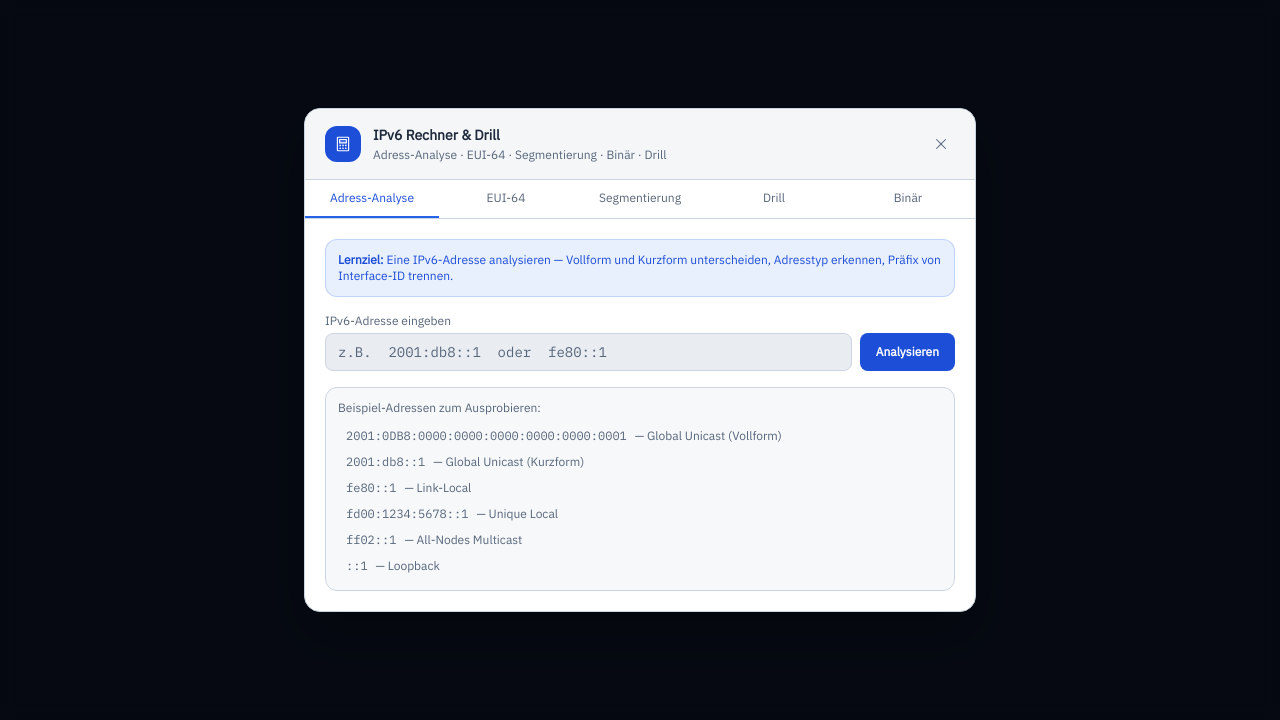
Scenario: Weitere critical-Fälle aus dem Reiter-Sweep › IPv6 „Segmentierung“: Präfix- und CIDR-Feld haben Namen
Press the mouse on the tab "Segmentierung" at (640, 199), box [573, 180, 707, 218]
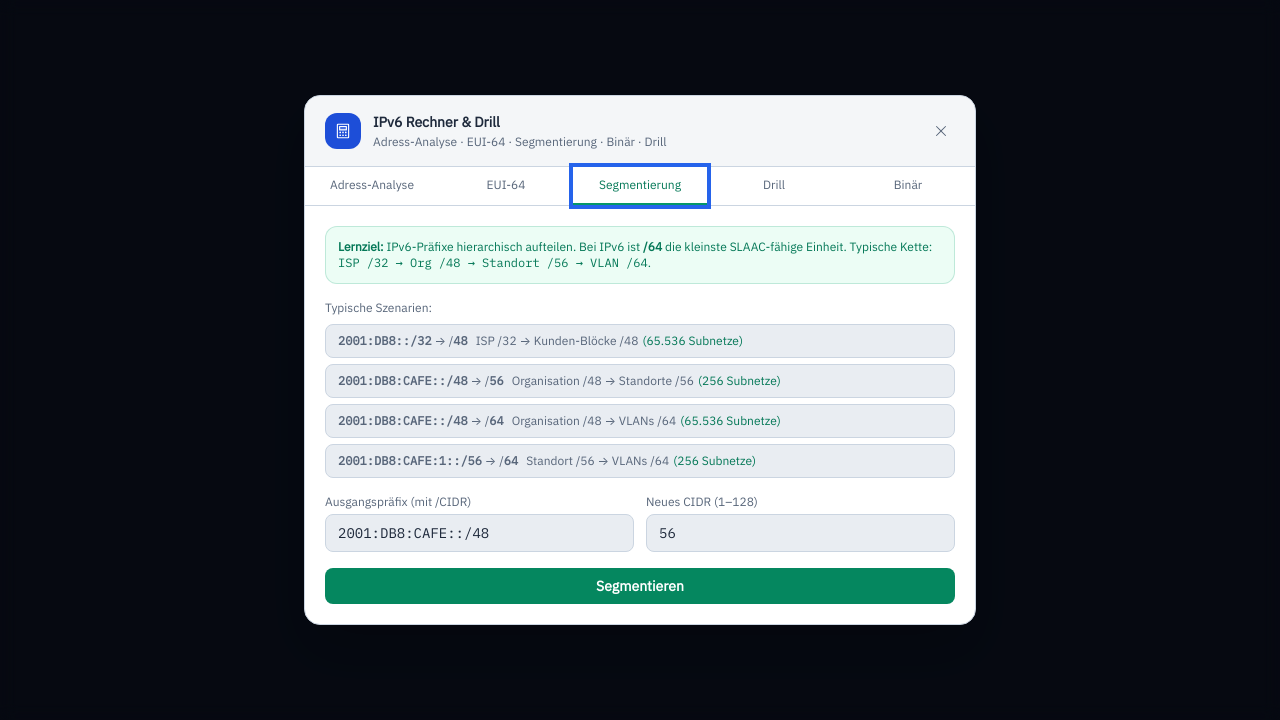
Expected: the field labelled "Ausgangspräfix (mit /CIDR)" is shown, [325, 514, 634, 552]
Expected: the number field labelled "Neues CIDR (1–128)" is shown, [646, 514, 955, 552]
